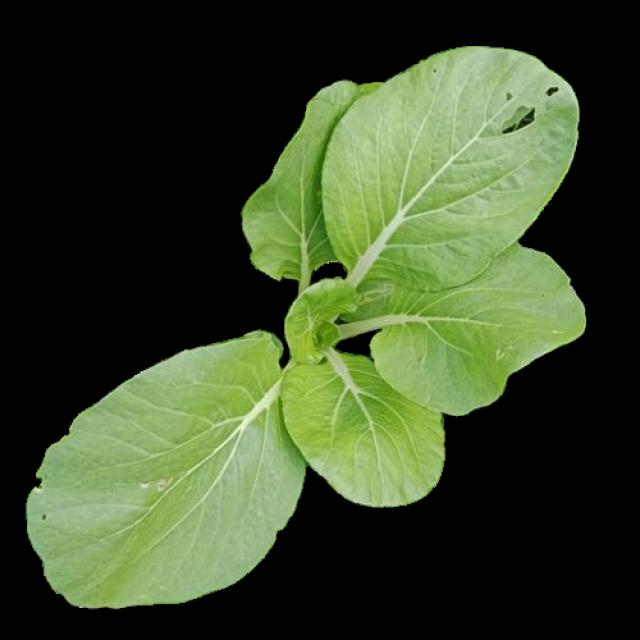not-mature: (28, 46, 585, 612)
unhealthy: (31, 333, 304, 607), (323, 48, 576, 290)
